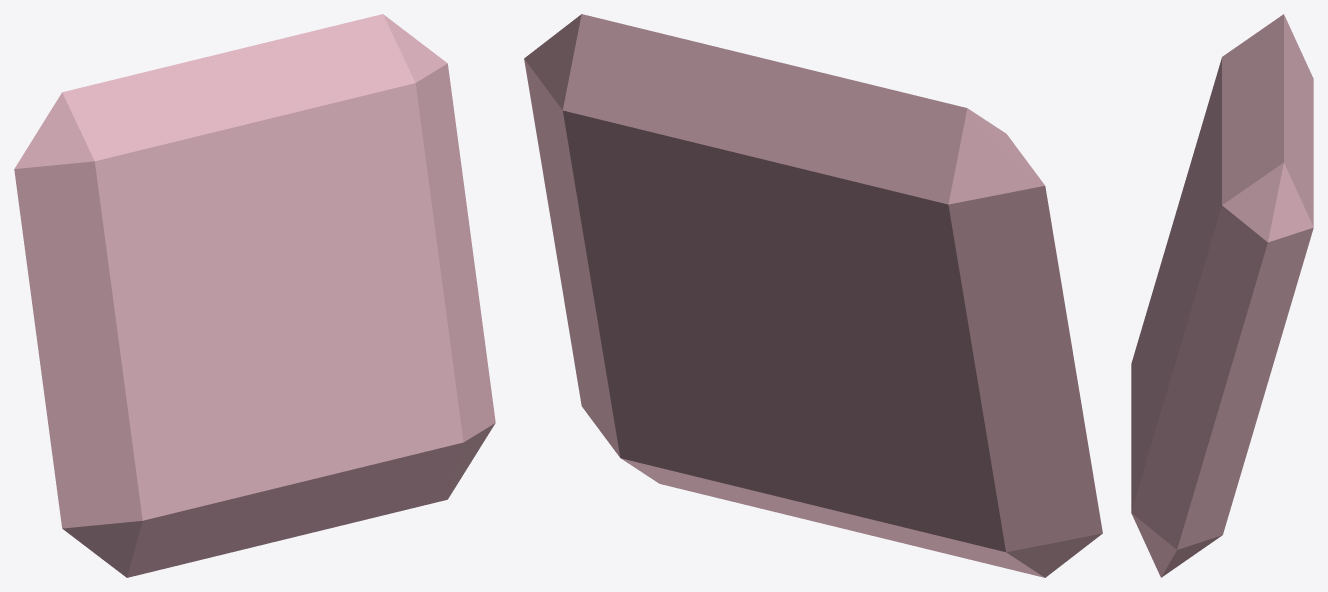
File: pillow.glb
The picture shows the model from 3 angles, left to right: view 1: azimuth 30°, elevation 25°; view 2: azimuth 150°, elevation 25°; view 3: azimuth 270°, elevation 25°; orthographic projection. The views are drawn at different scales.
Parts seen in each view (by area): view 1: pillow(Clone); view 2: pillow(Clone); view 3: pillow(Clone).
Boxes of the visible parts, x1,y1,x2,y2 form: pillow(Clone): (14,14,495,577); pillow(Clone): (524,14,1102,577); pillow(Clone): (1131,14,1313,577).
Size of the model in its own units: 0.23 by 0.2222 by 0.0885.
